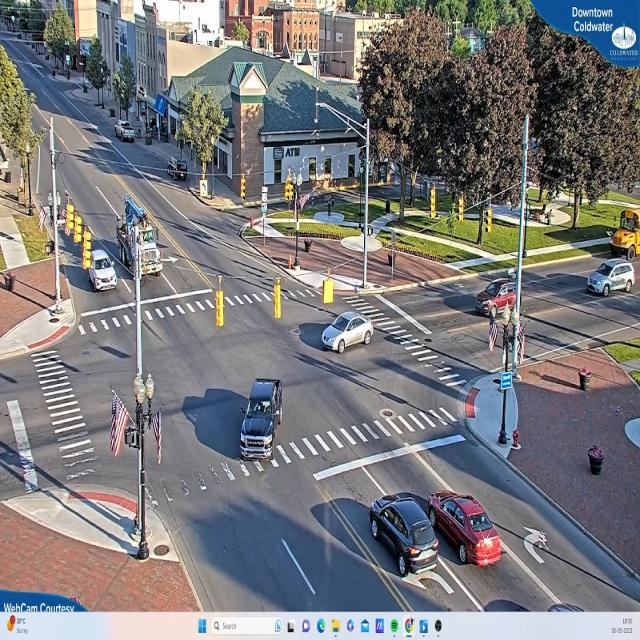car: (368, 494, 442, 579), (426, 491, 506, 568), (238, 381, 277, 461), (320, 312, 372, 354), (86, 243, 120, 295), (588, 260, 634, 296), (118, 120, 138, 143)
truck: (115, 195, 171, 278)
